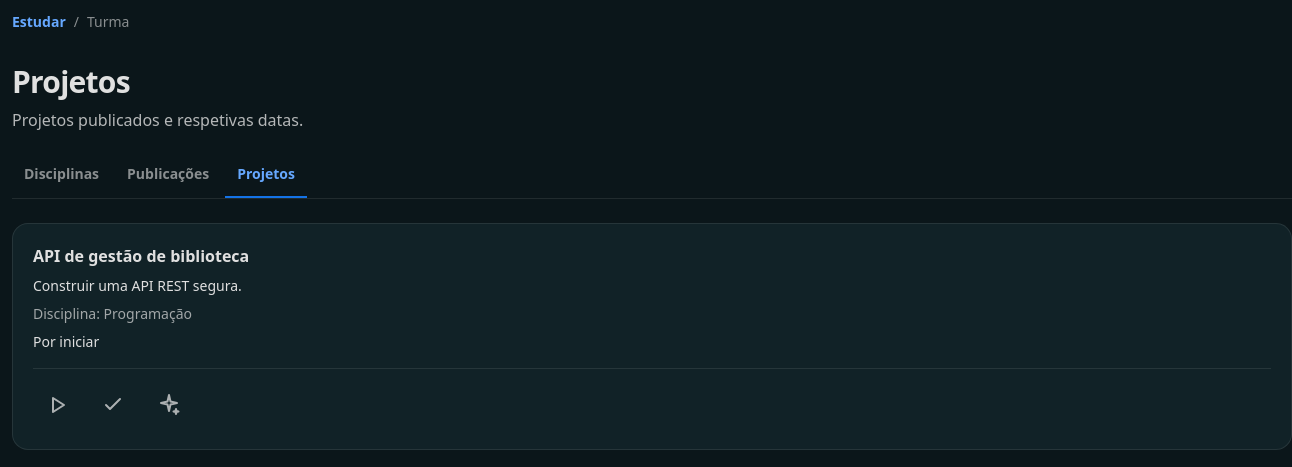
it: StudentClassProjectsPage › preserva a transição de progresso e troca iniciar por reabrir quando concluído
Click the button named "Marcar em curso".
click(57, 405)  # box left=33, top=381, right=81, bottom=429
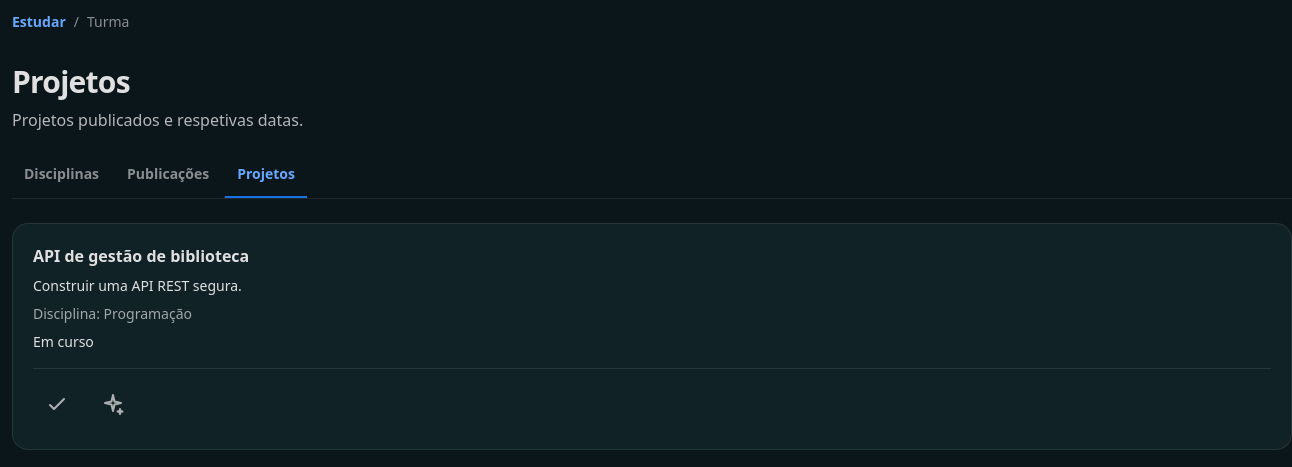
Expected: the text "Em curso" is shown, left=33, top=332, right=94, bottom=351
Click the button named "Concluir".
click(57, 405)  # box left=33, top=381, right=81, bottom=429
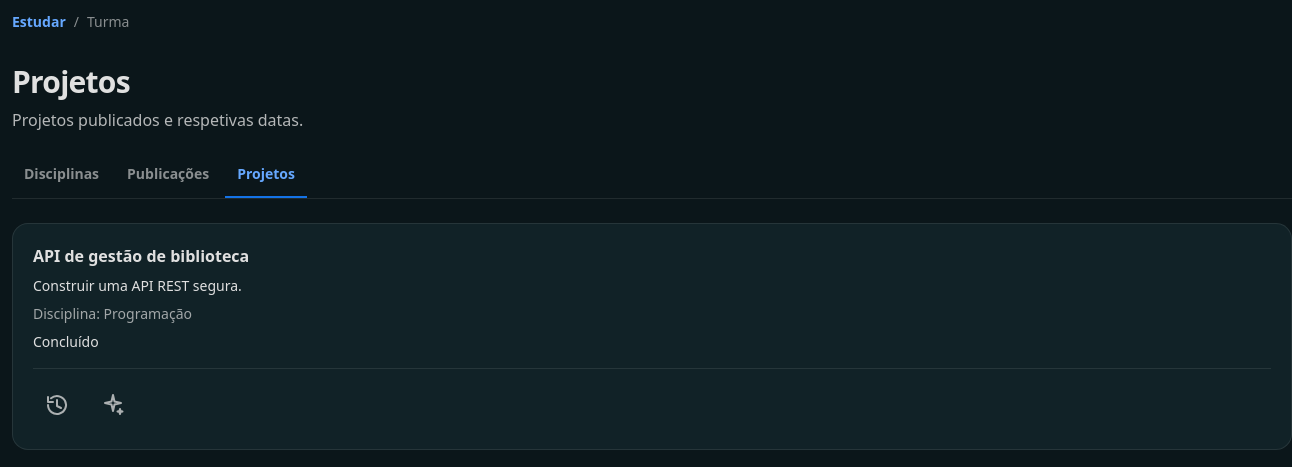
Expected: the button named "Reabrir" is shown, left=33, top=381, right=81, bottom=429
